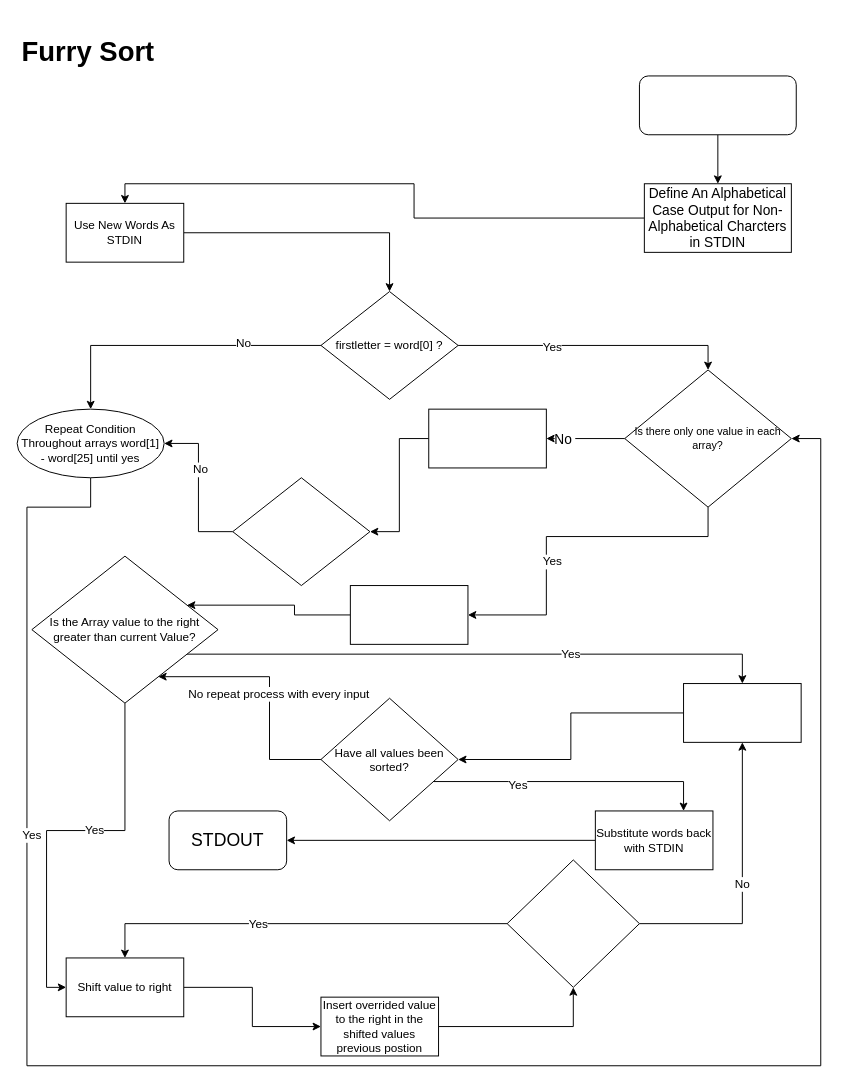
This 846x1091 diagram has some shape labels left out. The box of each missing label's shape, as (x1, y1, x2, y2) in pixels:
"next"letter = word[0] ?: (232, 477, 370, 586)
Begin to Sort: (349, 585, 468, 644)
Evaluate next letter: (428, 408, 546, 468)
Is the value to the left greater than current value?: (506, 859, 639, 987)
Leave as is: (683, 683, 801, 742)
STDIN: (638, 75, 796, 135)
